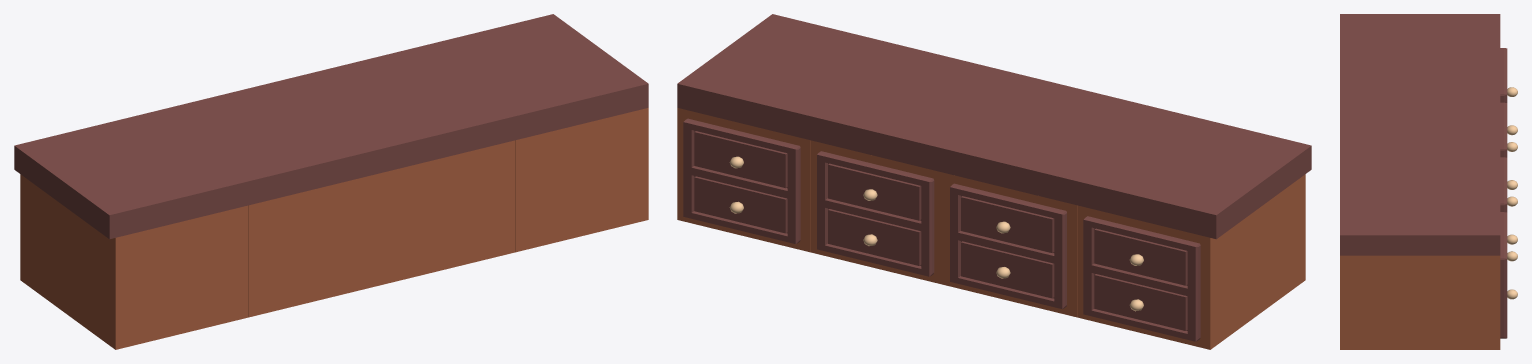
File: bancadasv3.fbx
The picture shows the model from 3 angles, left to right: view 1: azimuth 30°, elevation 25°; view 2: azimuth 150°, elevation 25°; view 3: azimuth 270°, elevation 25°; orthographic projection. The views are drawn at different scales.
Parts seen in each view (by area): view 1: Plane.100; view 2: Plane.100; view 3: Plane.100.
Boxes of the visible parts, x1,y1,x2,y2 form: Plane.100: (14,14,648,349); Plane.100: (677,14,1311,349); Plane.100: (1340,14,1517,349).
Size of the model in its own units: 5.21 by 1.26 by 1.77.
